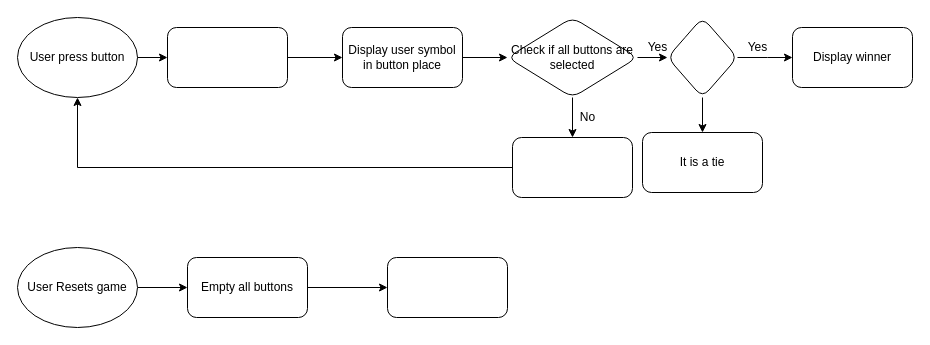
This 930x345 diagram has some shape labels left out. The centre of each missing label's shape, as x and y in pixels:
"Check win" goes at (702,57).
"Set player one as starting player" goes at (447,287).
"Store user symbol in button" goes at (227,57).
"Switch Player" goes at (572,167).
